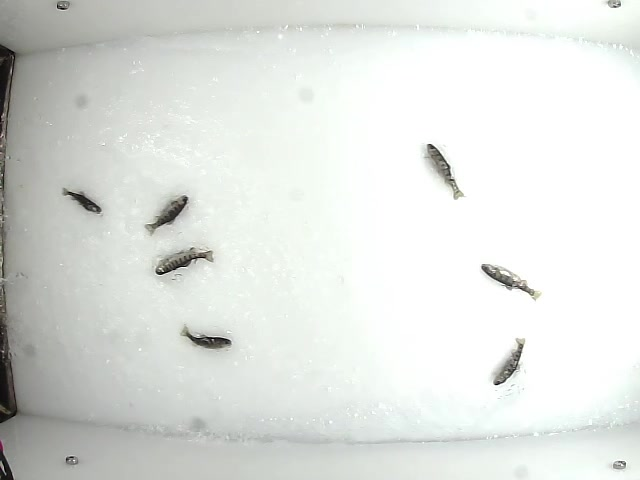fish: (425, 141, 466, 201), (480, 262, 543, 301), (142, 190, 191, 235), (153, 244, 215, 275), (491, 335, 527, 387), (179, 325, 233, 352), (58, 184, 104, 215)
